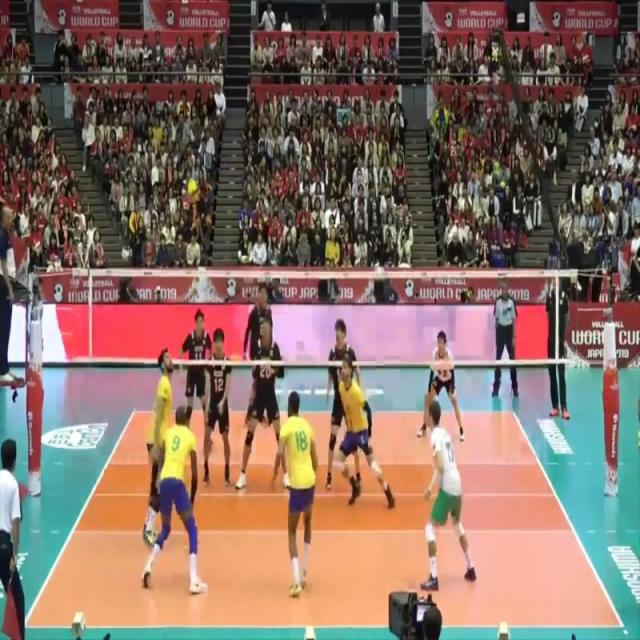volleyball: (186, 176, 202, 202)
